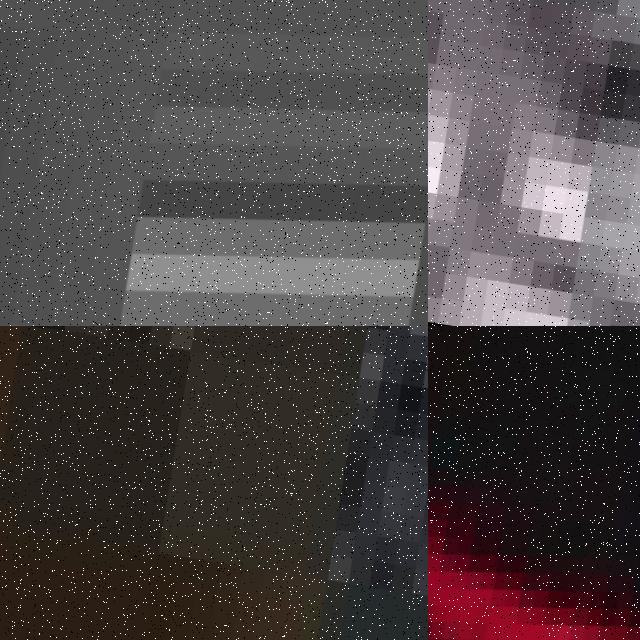0: (0, 0, 428, 326)
drone: (428, 326, 640, 640)
